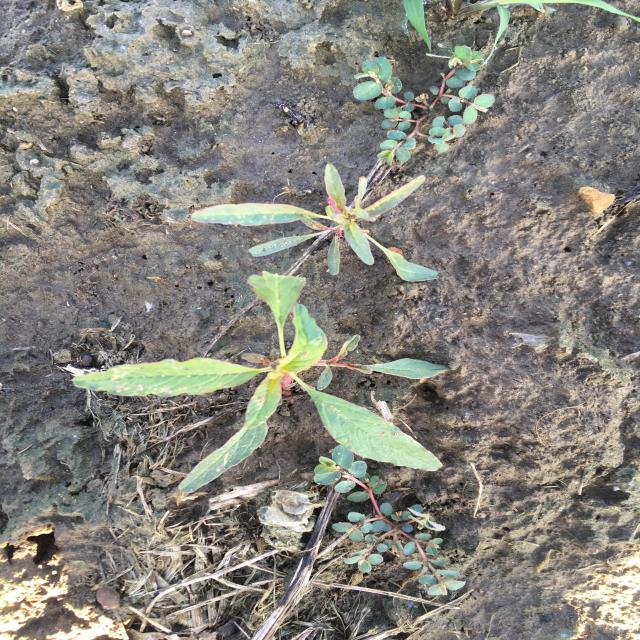SpottedSpurge: (312, 444, 468, 597), (350, 44, 498, 168)
Waterhemp: (69, 268, 452, 496), (187, 162, 442, 283)
